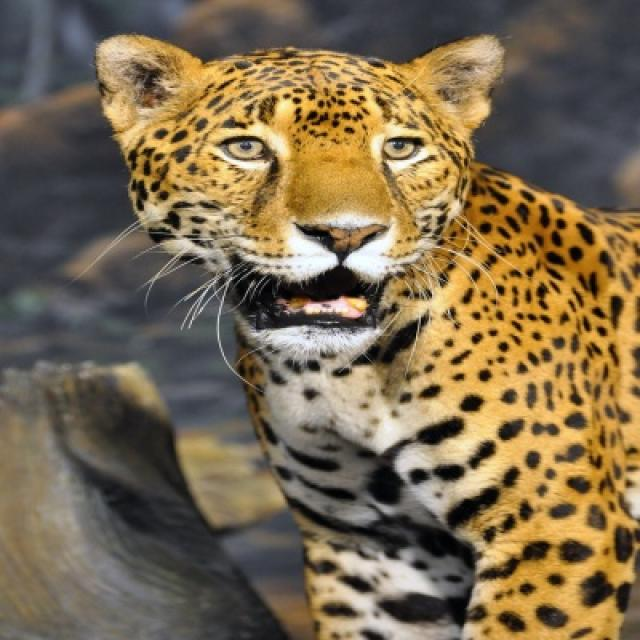Jaguar: (94, 34, 638, 638)
